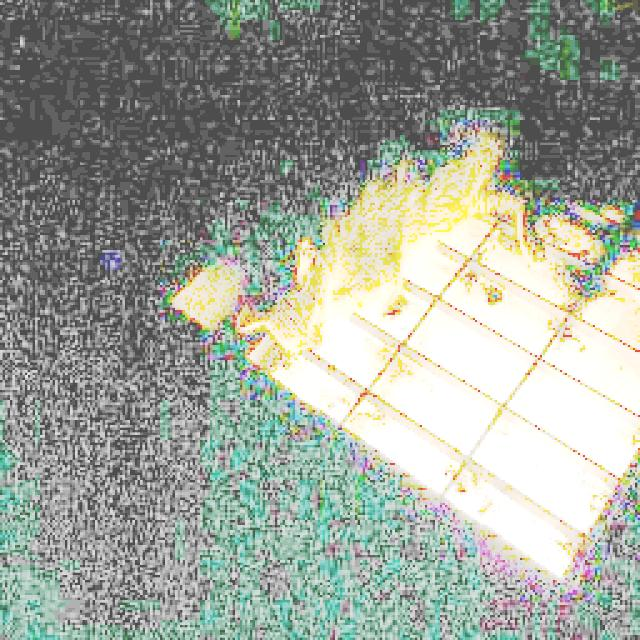cat: (232, 127, 578, 375)
